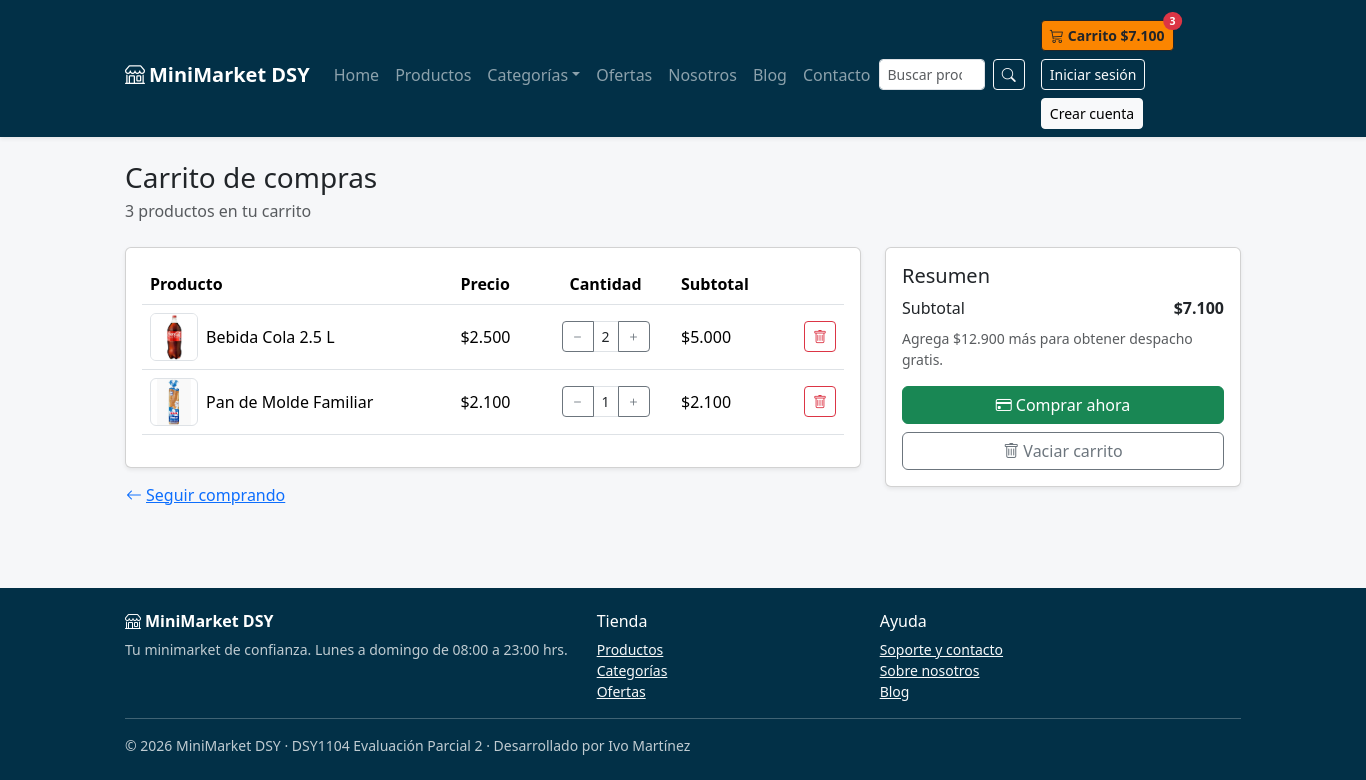
Scenario: App - navegación de la tienda › el carrito permite modificar cantidades y vaciarse
expect the text with test id "subtotal-carrito" reads "$7.100": met, box left=1174, top=297, right=1224, bottom=319
What coordinates should you click on to do the following:
click the button named "Agregar uno de Bebida Cola 2.5 L"
I would click on:
 (634, 337)
Its box is left=618, top=321, right=650, bottom=352.
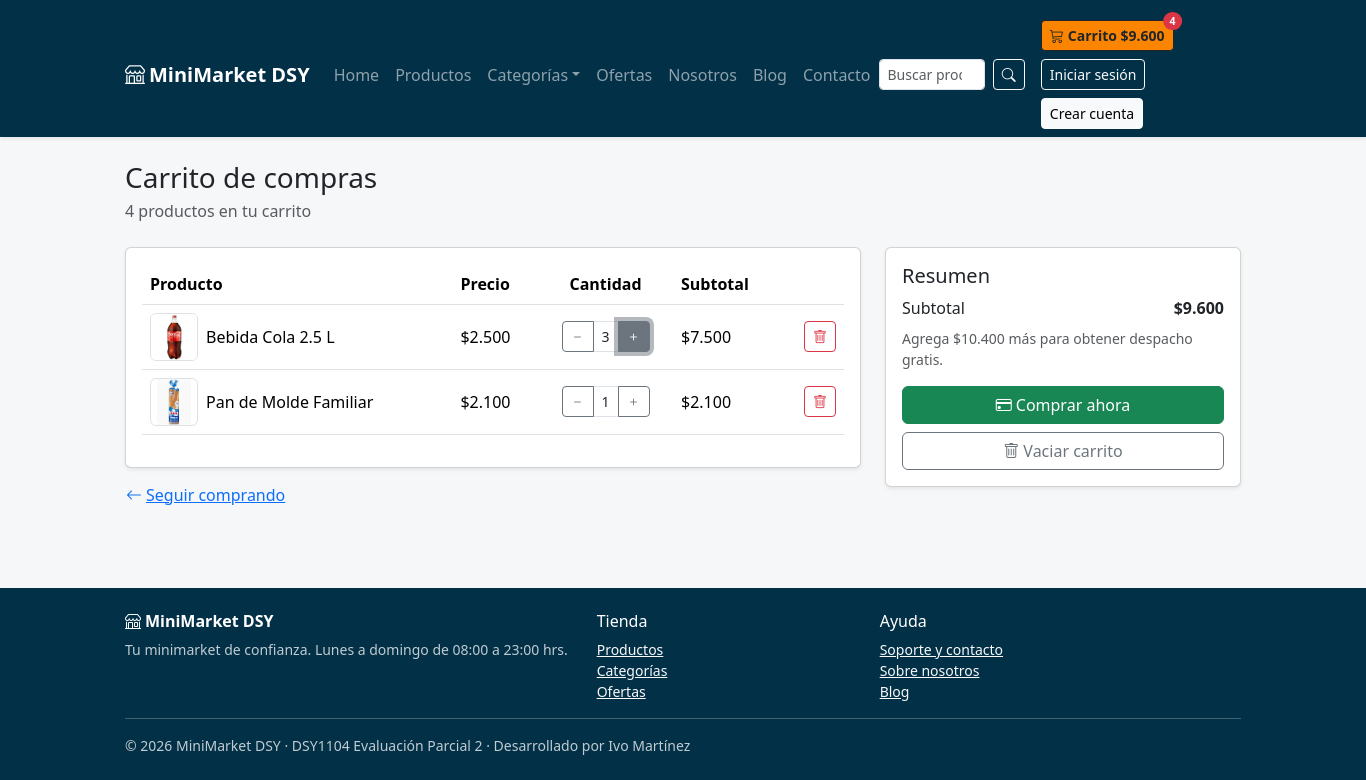
expect the text with test id "subtotal-carrito" reads "$9.600": met, box left=1174, top=297, right=1224, bottom=319
What coordinates should you click on to do the following:
click the button "Vaciar carrito"
I would click on:
 (1063, 451)
Its box is left=902, top=432, right=1224, bottom=470.
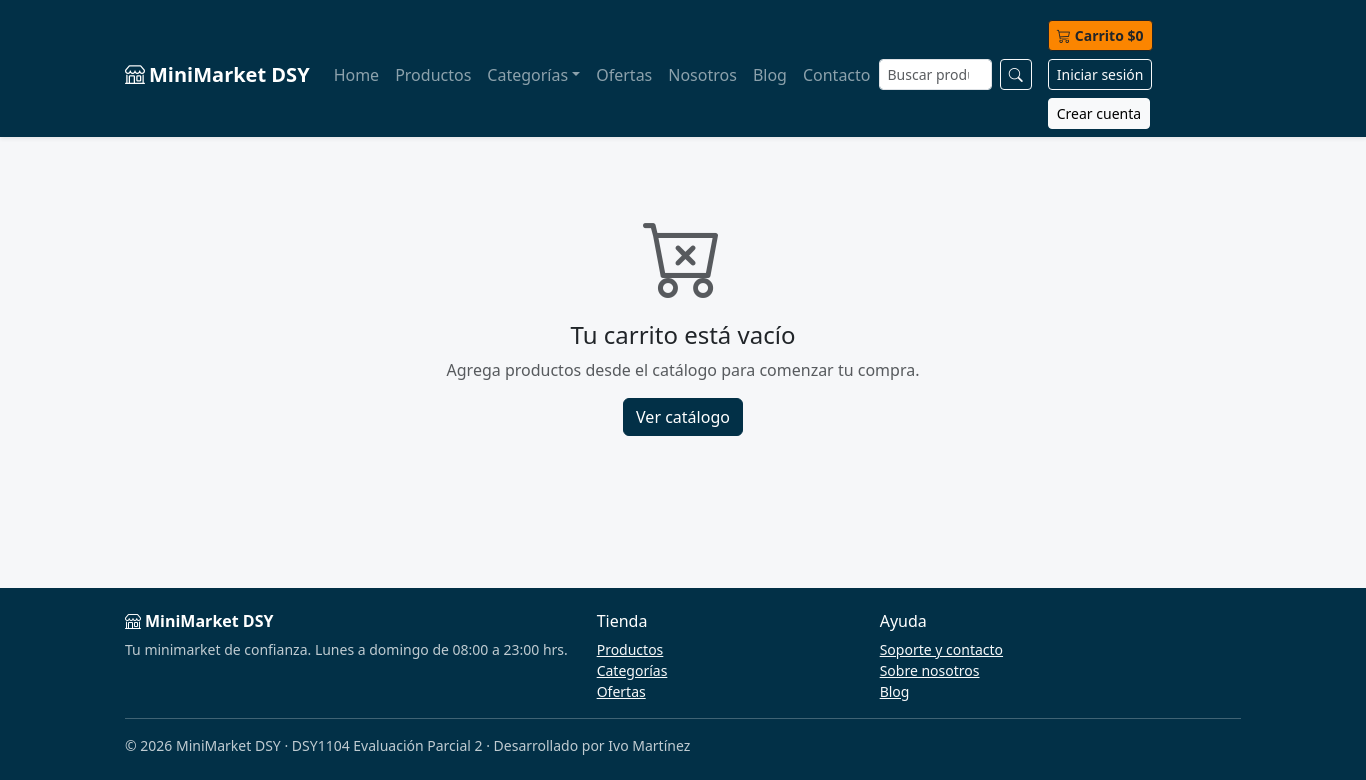
expect the heading "Tu carrito está vacío" is shown: met, box left=570, top=318, right=795, bottom=351
